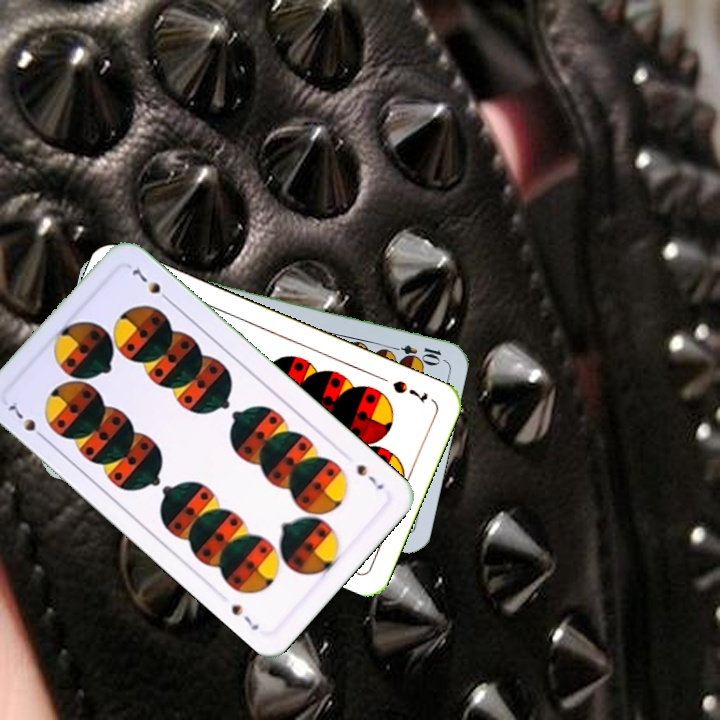E10: (385, 340, 444, 365)
S7: (4, 397, 50, 444), (388, 376, 430, 406), (352, 460, 387, 493)
